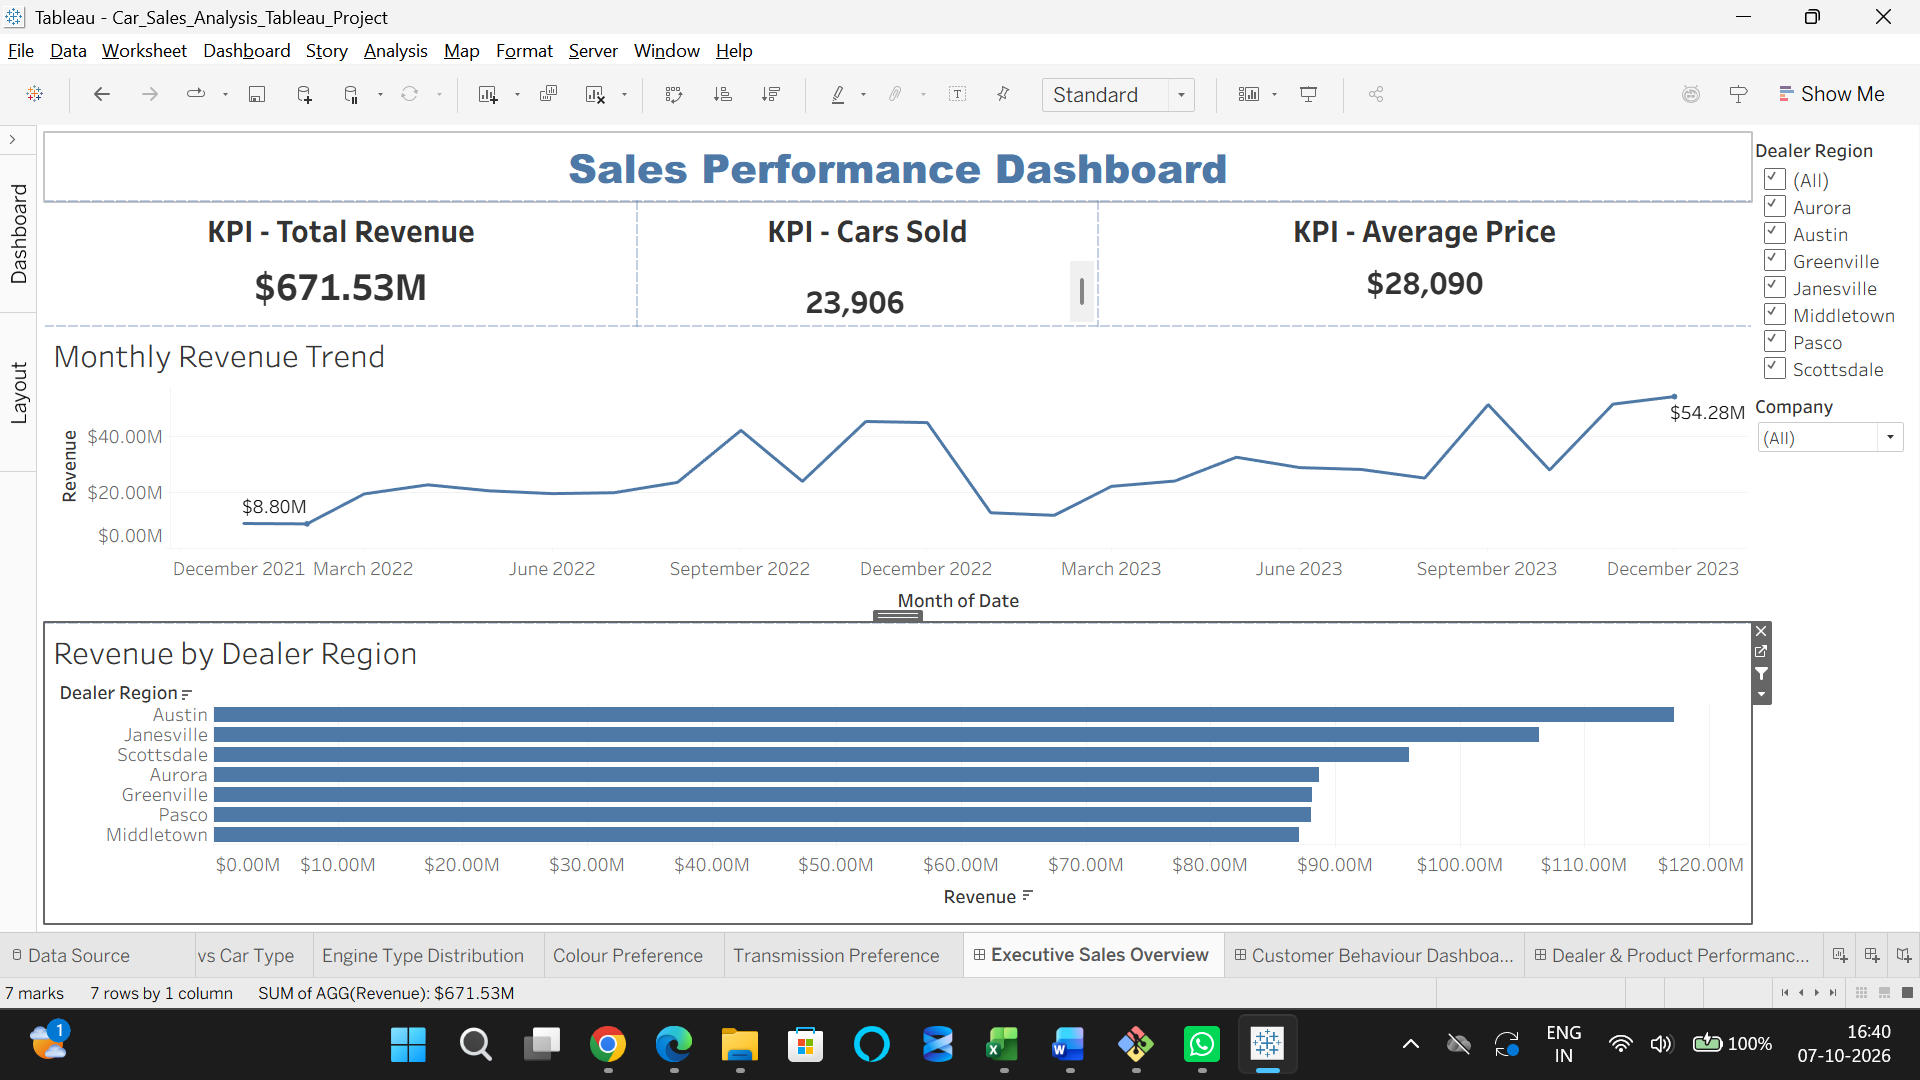

This screenshot's page, from the dashboard's own definition file:
{"tool":"tableau","page":{"name":"Executive Sales Overview ","canvas":[1000,1000],"units":"permille","ordinal":2},"visuals":[{"type":"text","box":[5,9.9,890.3,84.4]},{"type":"filter","title":"Revenue by Dealer Region","param":"[federated.0mckpiq1fay6no11compp1ardqm1].[none:Dealer_Region:nk]","box":[895.3,9.9,99.8,317.6]},{"type":"worksheet","title":"KPI - Total Revenue","mark":"Automatic","box":[5,94.3,308.8,140.2]},{"type":"worksheet","title":"KPI - Cars Sold","mark":"Automatic","box":[313.8,94.3,240.5,155.1]},{"type":"worksheet","title":"KPI - Average Price","mark":"Automatic","box":[554.4,94.3,340.9,155.1]},{"type":"worksheet","title":"Monthly Revenue Trend","mark":"Automatic","rows":["Calculation_0152607579099137"],"cols":["Date"],"box":[5,249.4,890.3,368.5]},{"type":"filter","title":"Monthly Revenue Trend","param":"[federated.0mckpiq1fay6no11compp1ardqm1].[none:Company:nk]","box":[895.3,327.6,99.8,86.9]},{"type":"worksheet","title":"Revenue by Dealer Region","mark":"Automatic","rows":["Dealer_Region"],"cols":["Calculation_0152607579099137"],"box":[5,617.9,890.3,372.2]}]}

Visuals, with their boxes on the dashboard's canvas, which has no fixed pixel size, in thousandths of its width and height (x1, y1, x2, y2). These are canvas units, not pixel positions in the 1920x1080 screenshot, which may show the page scaled, cropped or inside an application window:
text: [5, 10, 895, 94]
"Revenue by Dealer Region" filter: [895, 10, 995, 328]
"KPI - Total Revenue" worksheet: [5, 94, 314, 234]
"KPI - Cars Sold" worksheet: [314, 94, 554, 249]
"KPI - Average Price" worksheet: [554, 94, 895, 249]
"Monthly Revenue Trend" worksheet: [5, 249, 895, 618]
"Monthly Revenue Trend" filter: [895, 328, 995, 414]
"Revenue by Dealer Region" worksheet: [5, 618, 895, 990]
